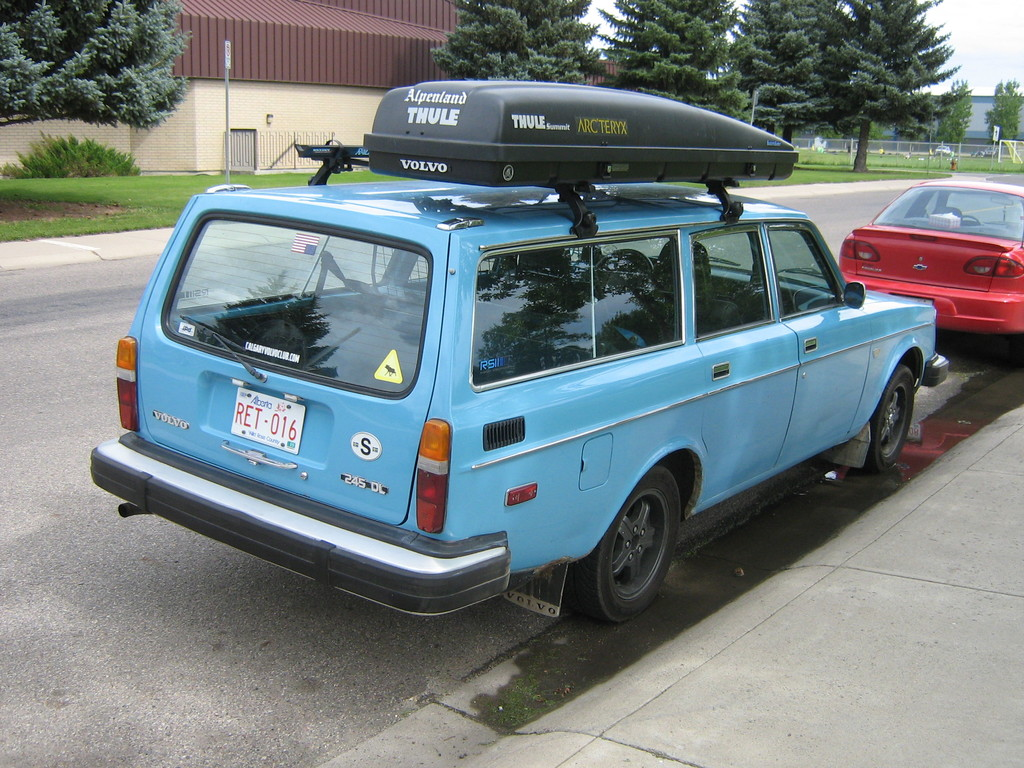Car: (79, 136, 956, 638), (844, 179, 1023, 346)
